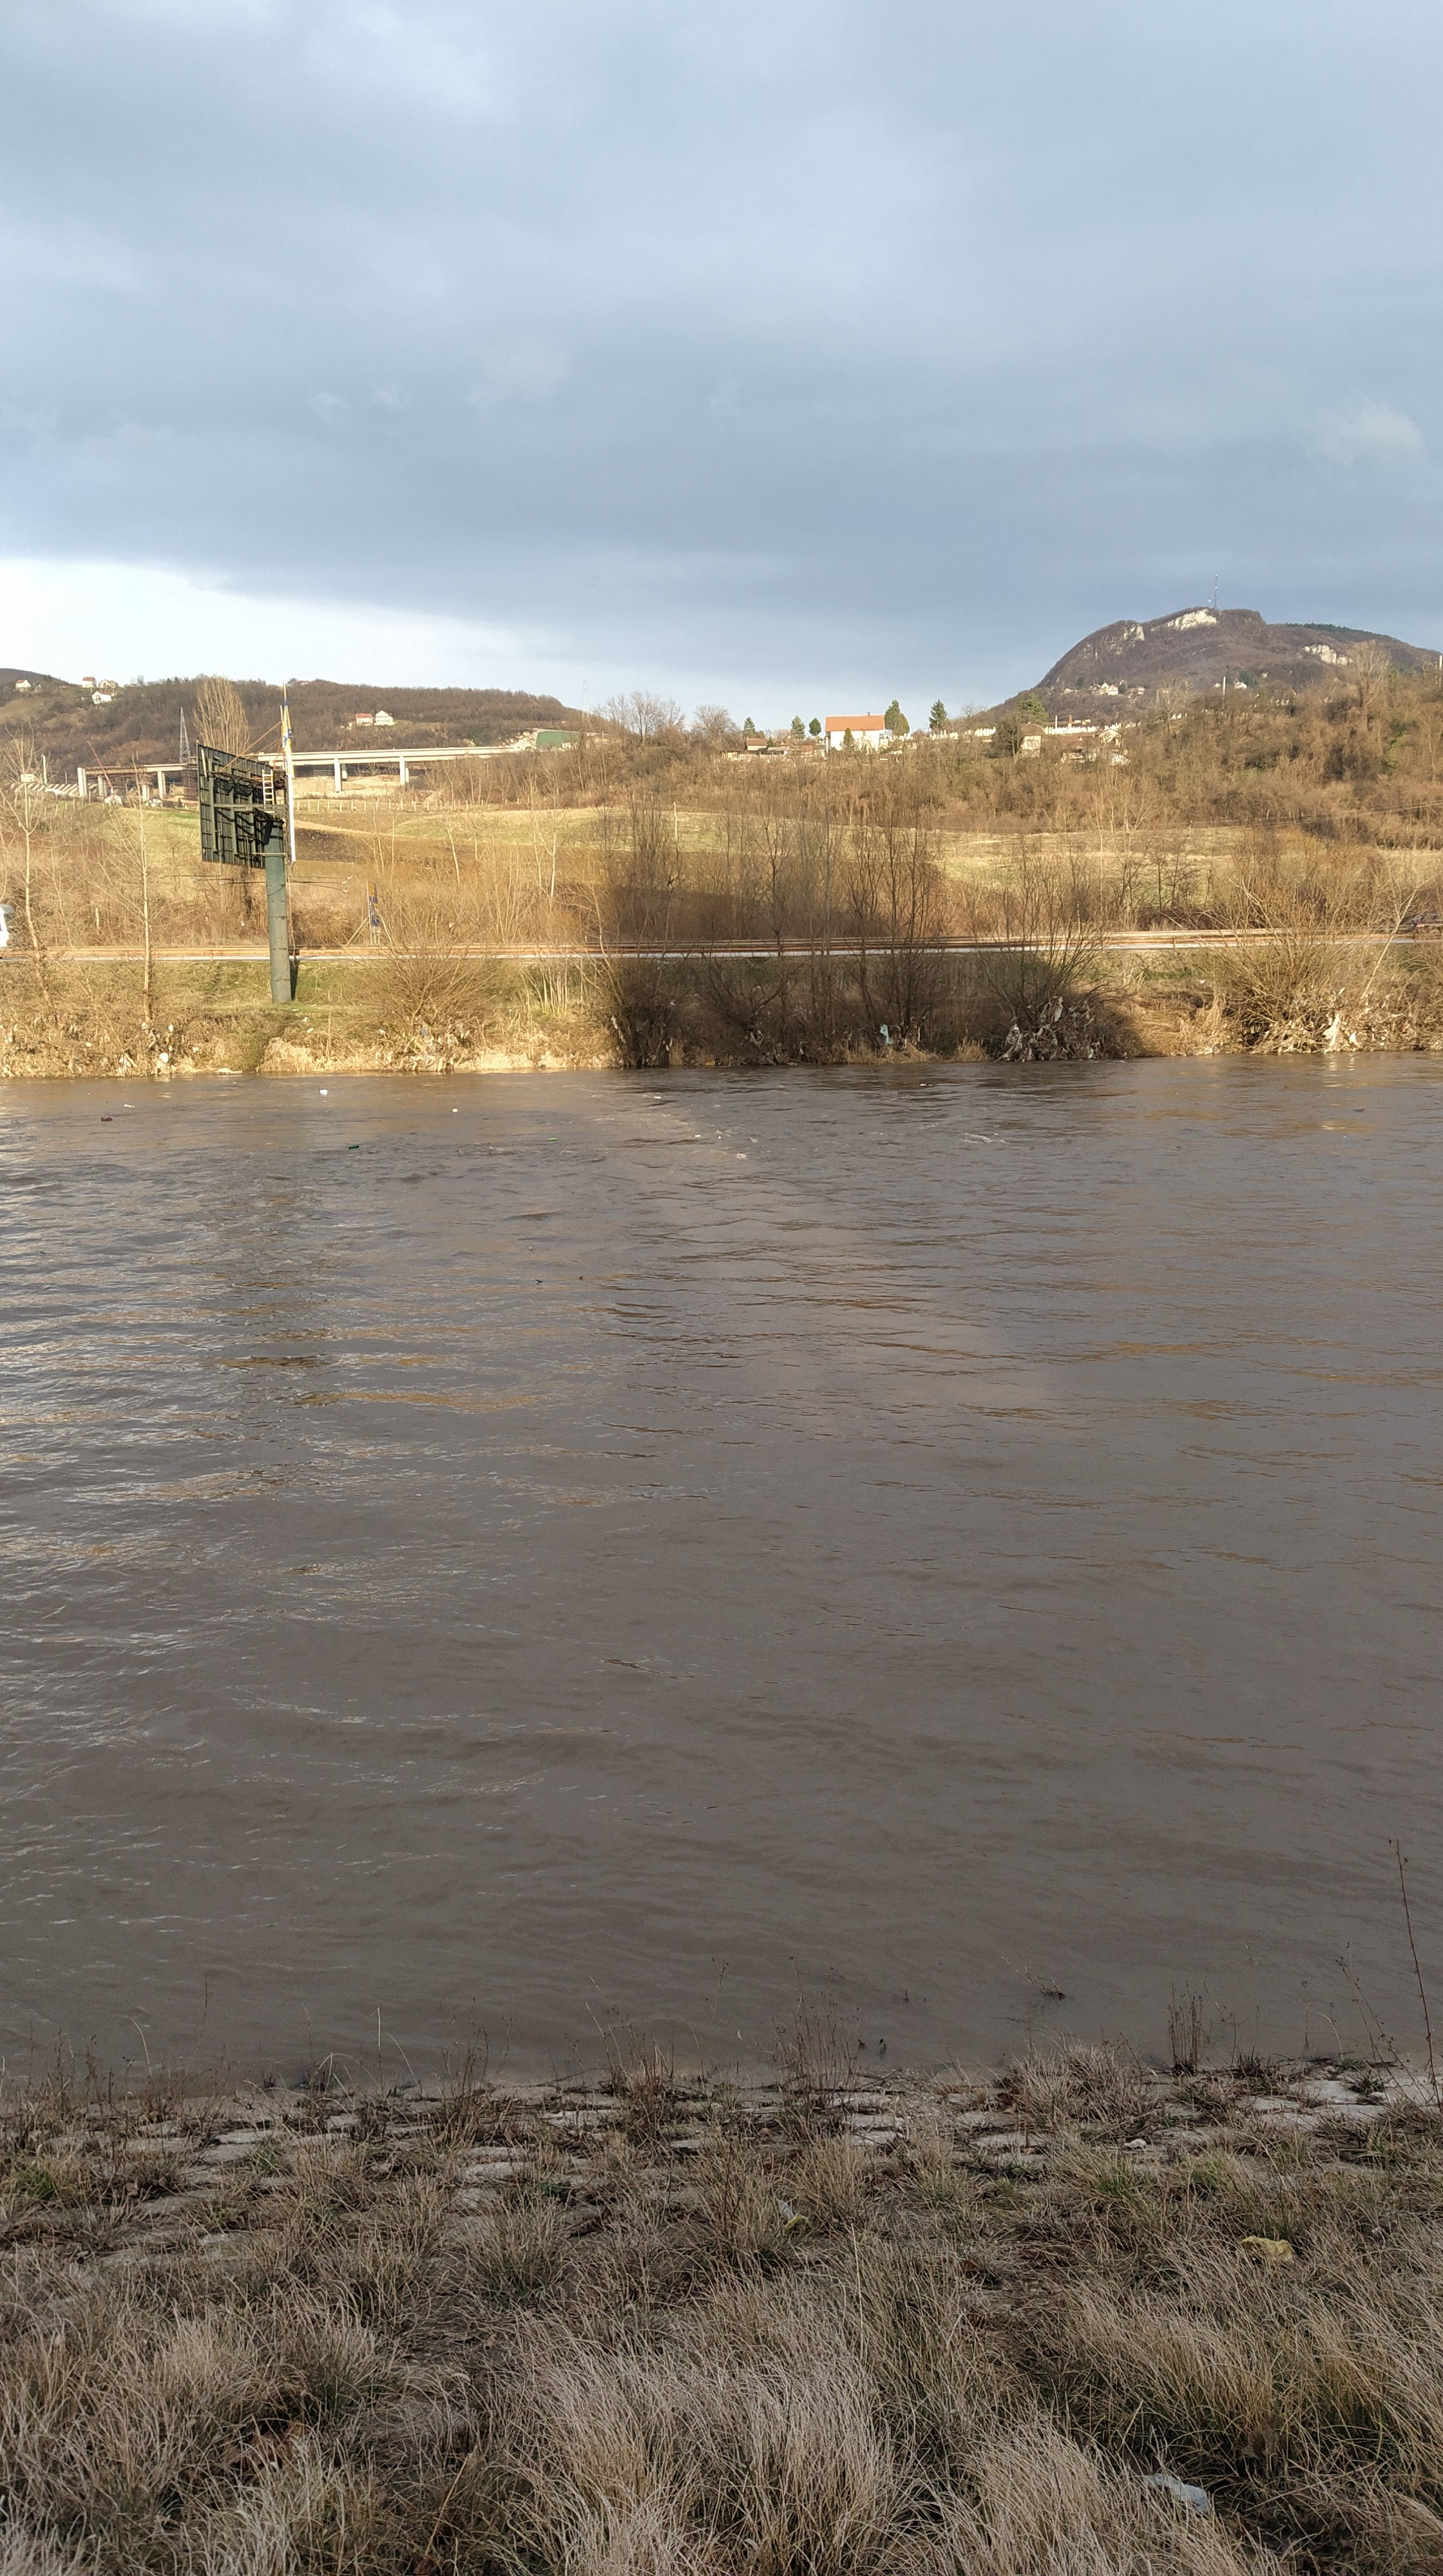Plastic Bottle: (99, 1116, 112, 1120), (122, 1104, 133, 1108), (347, 1145, 358, 1148), (319, 1090, 326, 1093), (549, 1138, 556, 1141)
